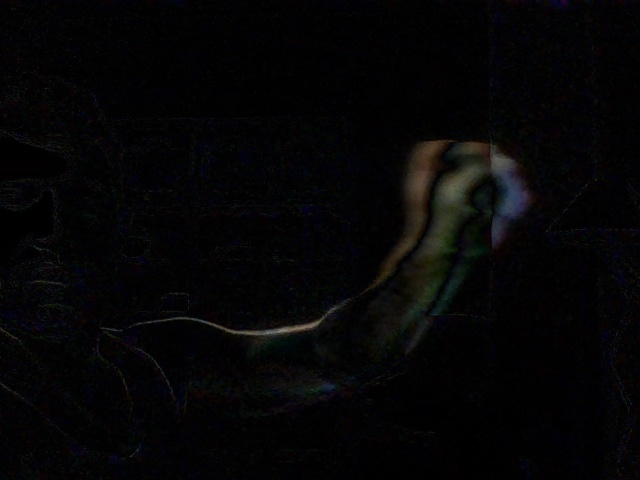hand_fi: (405, 124, 534, 253)
